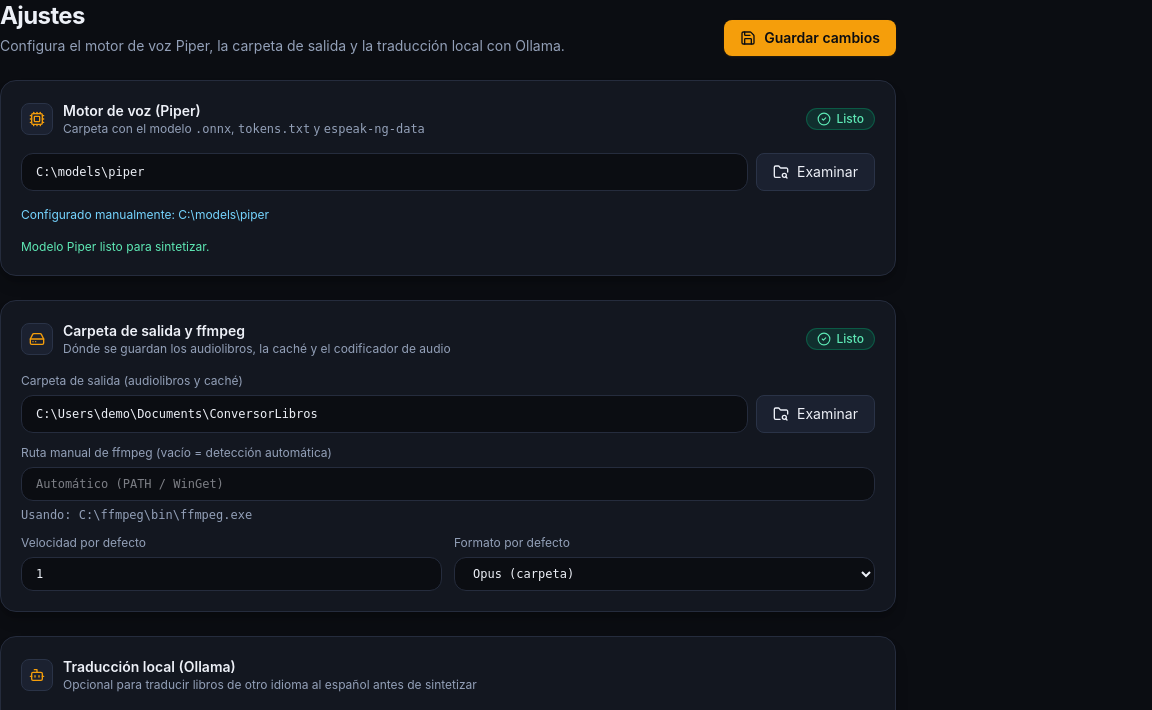
Scenario: SettingsPage › opens FolderBrowserModal, navigates into a folder and applies selected path
The width and height of the screenshot is (1152, 710).
Later steps or results of the test are not shown.
Expected: the field showing "C:\\models\\piper" is shown, [21,153,748,191]
Click the 1st button "Examinar": (816, 172) [756,153,875,191]
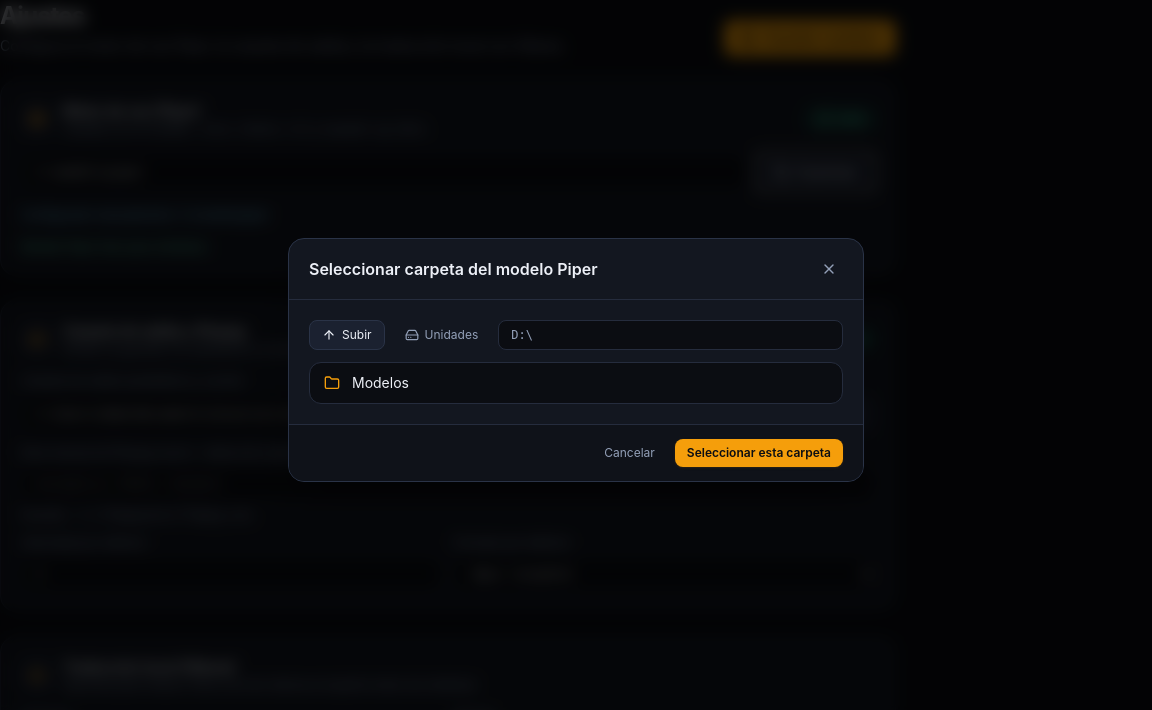
Now the text "Modelos" is shown, box [352,373,409,393]
Click the button "Modelos": (380, 382) [310,363,842,403]
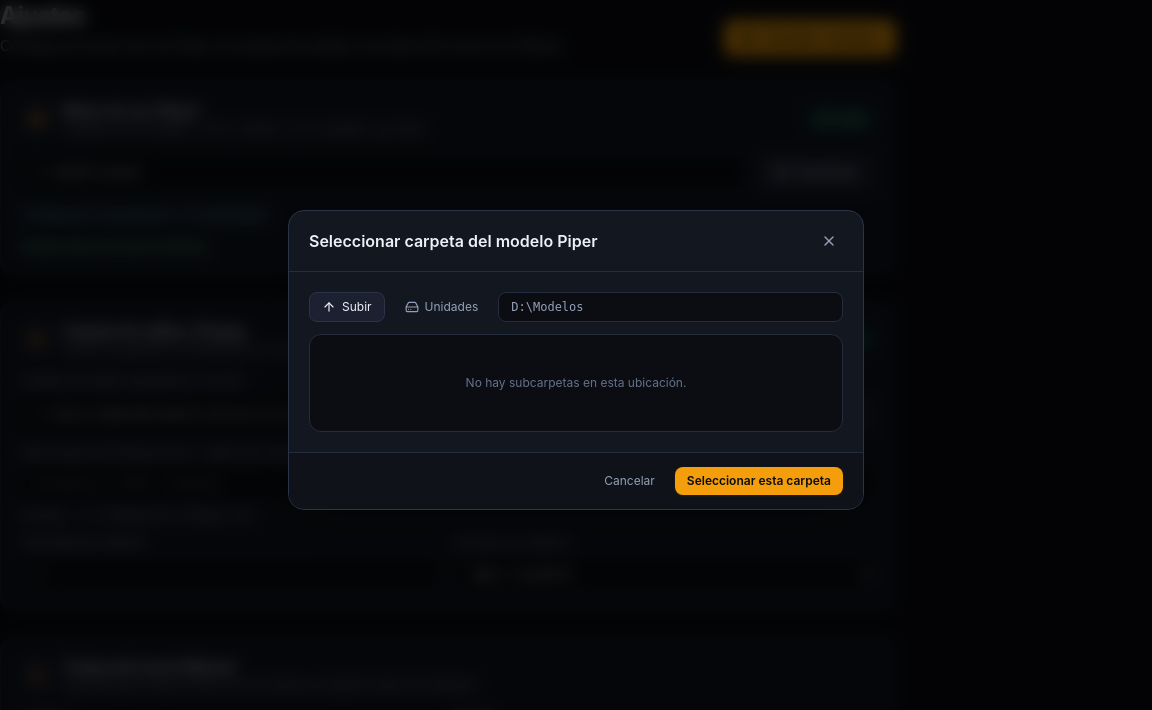
Now the text "D:\\Modelos" is shown, box [498,292,843,322]
